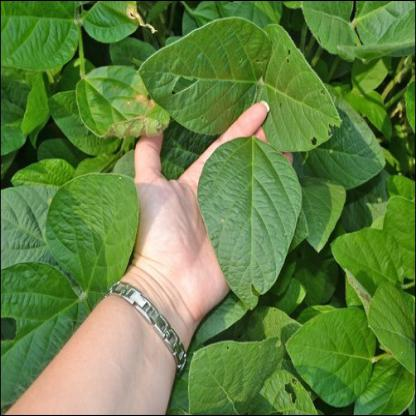soybean leaf: (190, 131, 308, 315), (139, 13, 275, 146), (255, 14, 346, 161)
